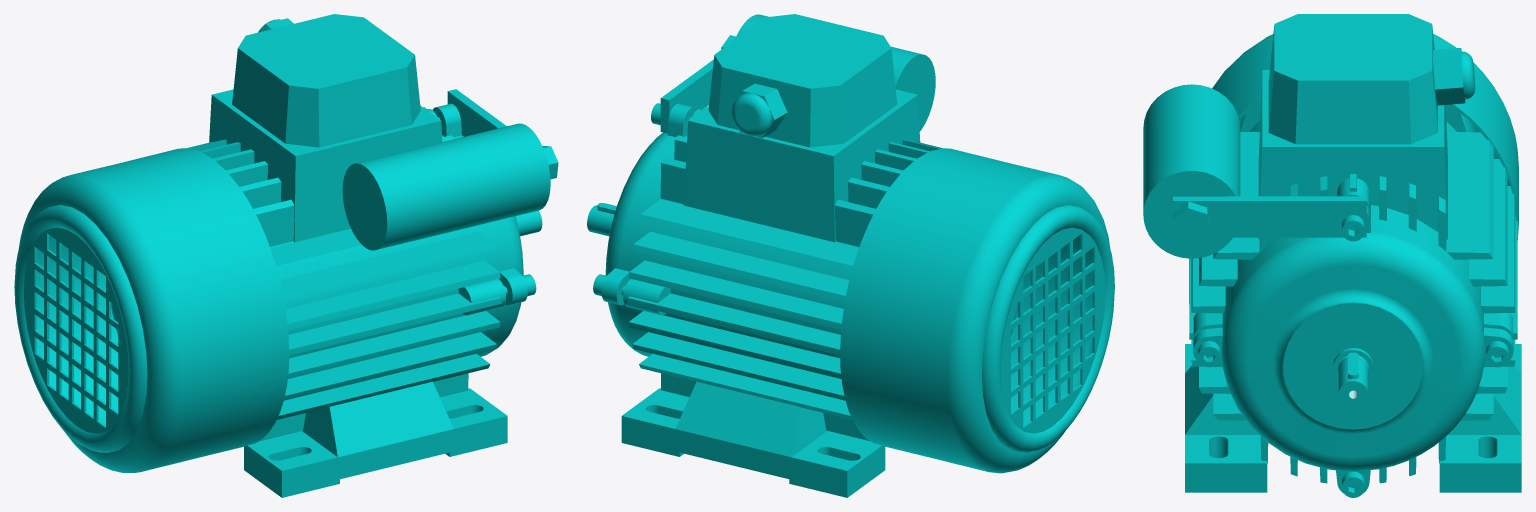
The model's file is motor.glb.
The picture shows the model from 3 angles, left to right: view 1: azimuth 30°, elevation 25°; view 2: azimuth 150°, elevation 25°; view 3: azimuth 270°, elevation 25°; orthographic projection. The views are drawn at different scales.
Visible parts, largest first — view 1: Body26.002; view 2: Body26.002; view 3: Body26.002.
Part boxes in pixels (box(x1,y1,x2,y2)): Body26.002: box(14, 14, 558, 497); Body26.002: box(587, 14, 1114, 497); Body26.002: box(1143, 14, 1521, 497).
Size of the model in its own units: 0.4945 by 0.368 by 0.3232.
